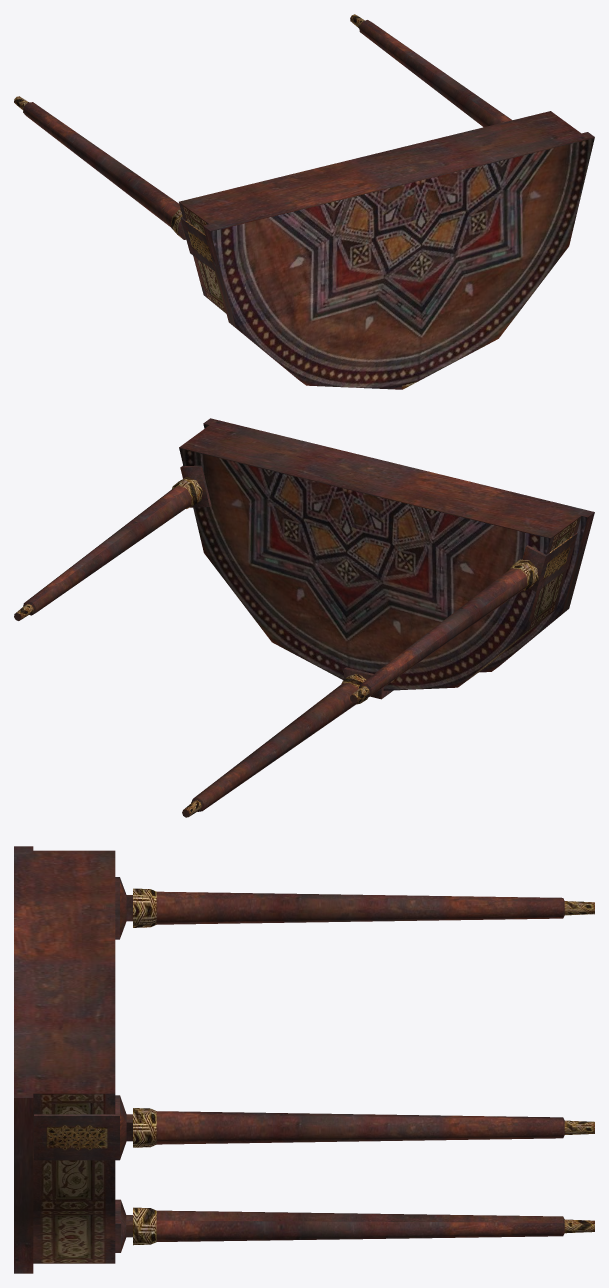
The model's file is furniture_northafrica_halftable.glb.
The picture shows the model from 3 angles, top to bottom: view 1: azimuth 30°, elevation 25°; view 2: azimuth 150°, elevation 25°; view 3: azimuth 270°, elevation 25°; orthographic projection. The views are drawn at different scales.
Bounding box in the file's own units: 35.85 × 18.31 × 35.
1 material, 1 textured.
